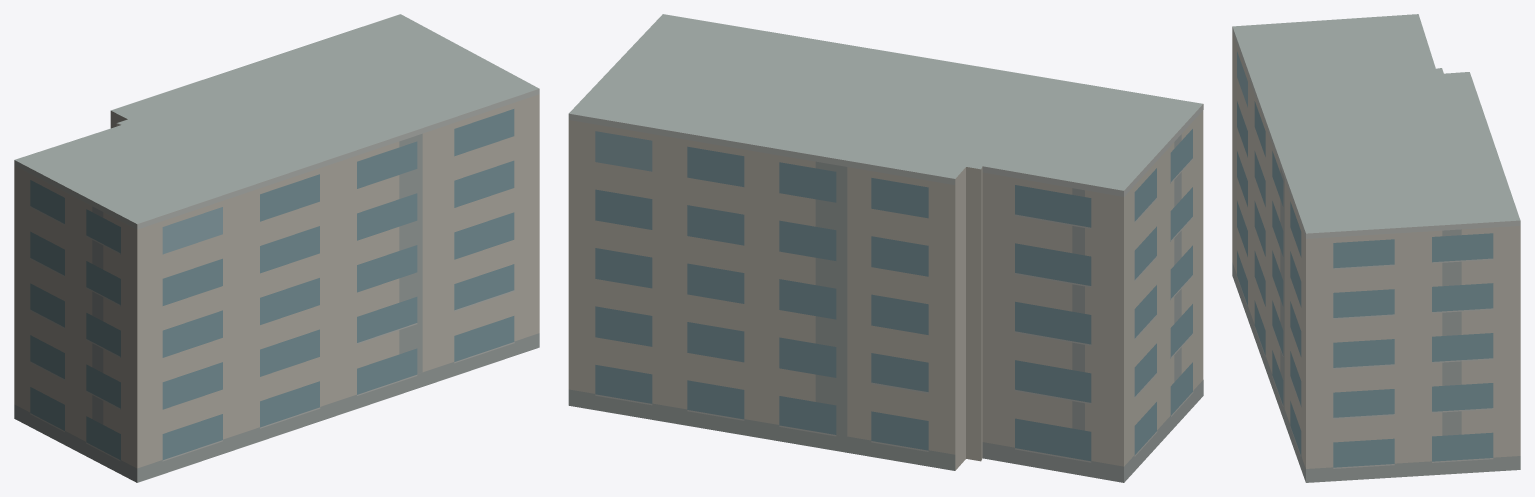
The model's file is survey-upis-32520416.glb.
3 views of the same model, side by side, from view 1: azimuth 30°, elevation 25°; view 2: azimuth 150°, elevation 25°; view 3: azimuth 270°, elevation 25° (orthographic). The views are drawn at different scales.
Visible parts, largest first — view 1: survey-upis-32520416.tmp; view 2: survey-upis-32520416.tmp; view 3: survey-upis-32520416.tmp.
Part boxes in pixels (left/top/right/bottom): survey-upis-32520416.tmp: left=14, top=14, right=539, bottom=482; survey-upis-32520416.tmp: left=568, top=14, right=1203, bottom=482; survey-upis-32520416.tmp: left=1232, top=14, right=1520, bottom=482.
Bounding box in the file's own units: 21.54 × 11.4 × 11.95.
